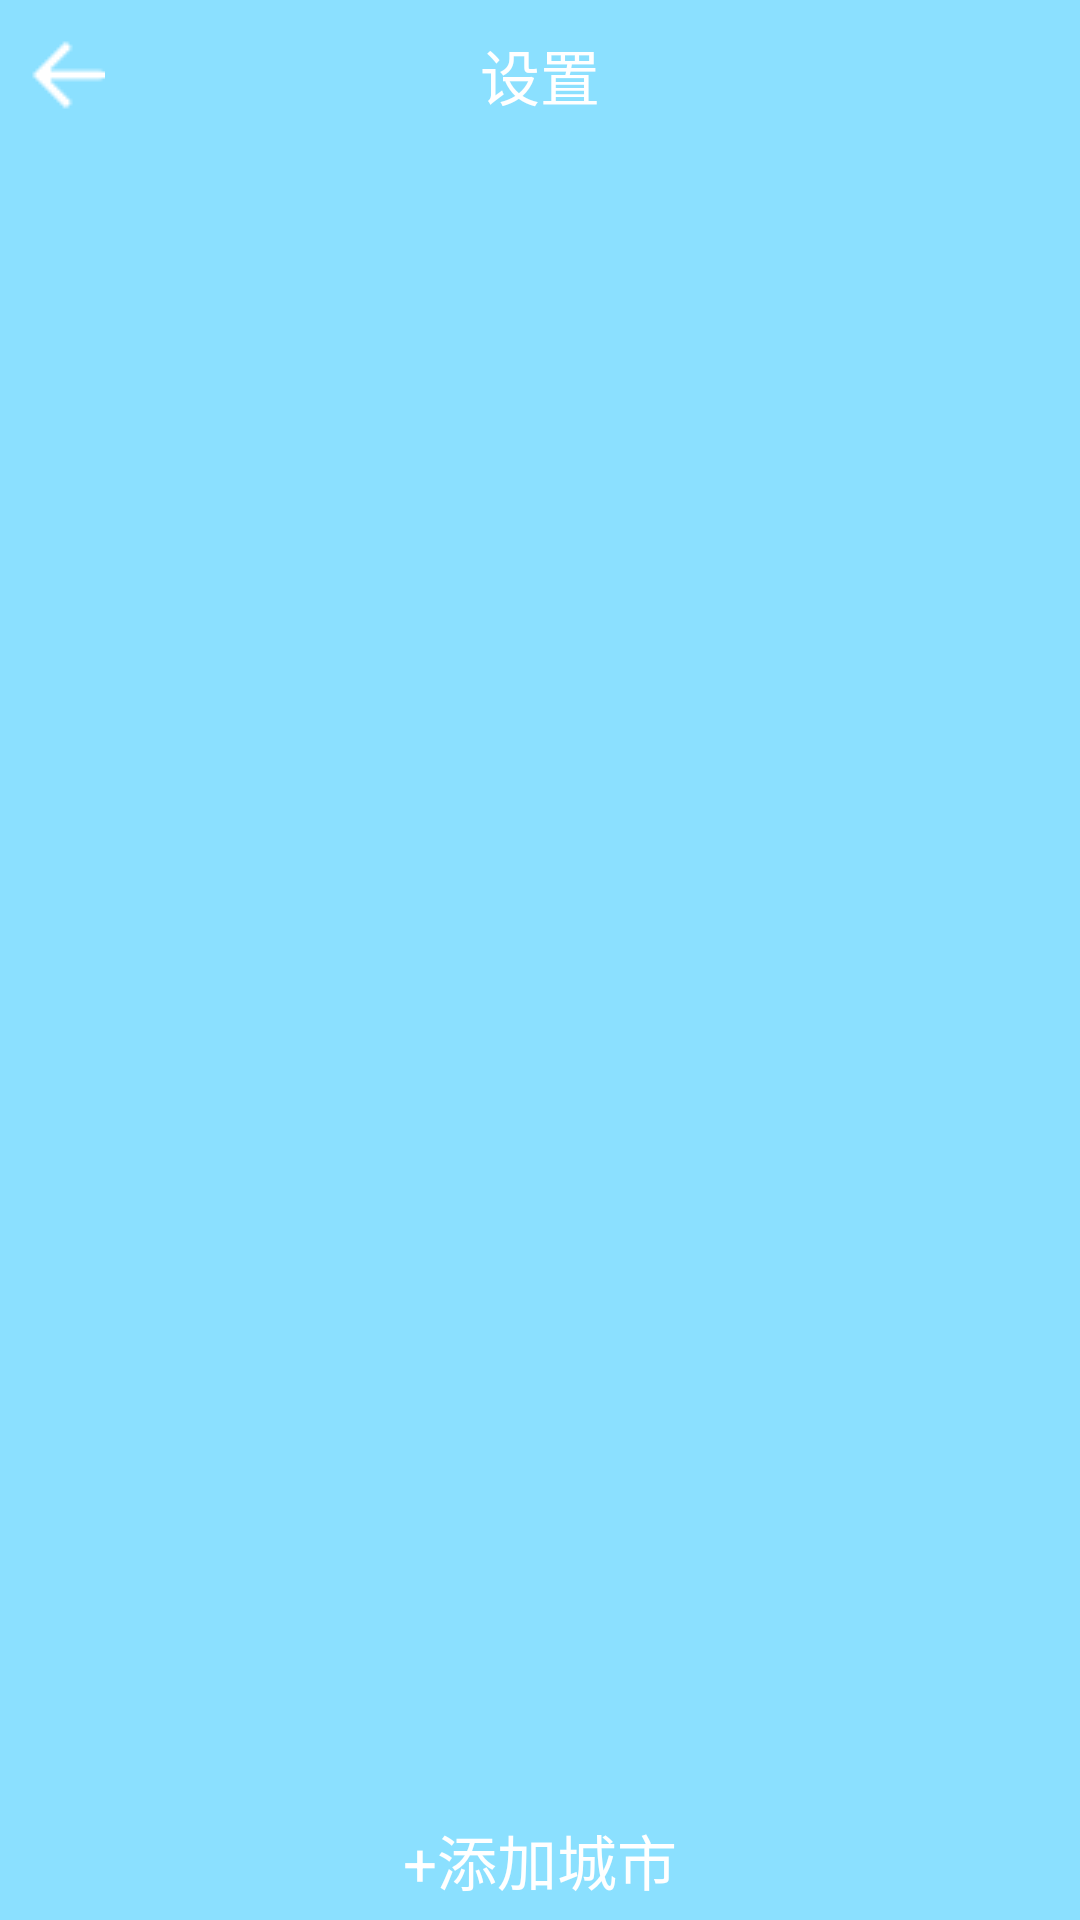

Where icons sit on this 1080 x 1920 app screen, as (x1, y1, x2, y2):
turnback: (33, 42, 105, 108)
